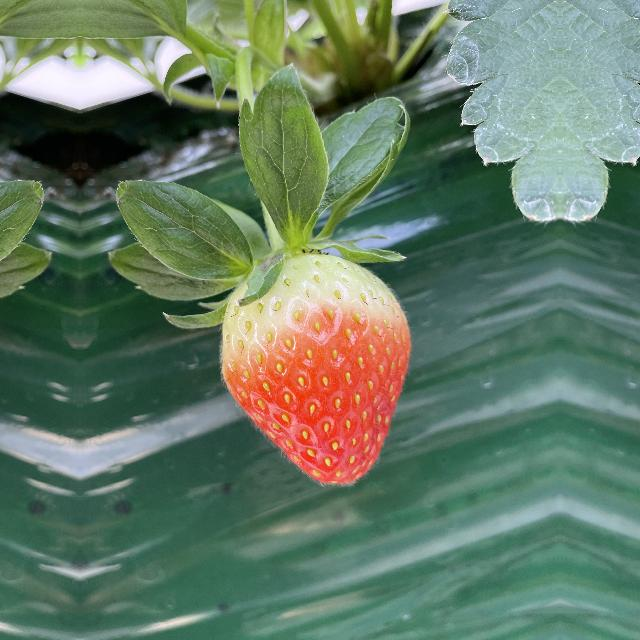Health_100: (210, 235, 418, 495)
